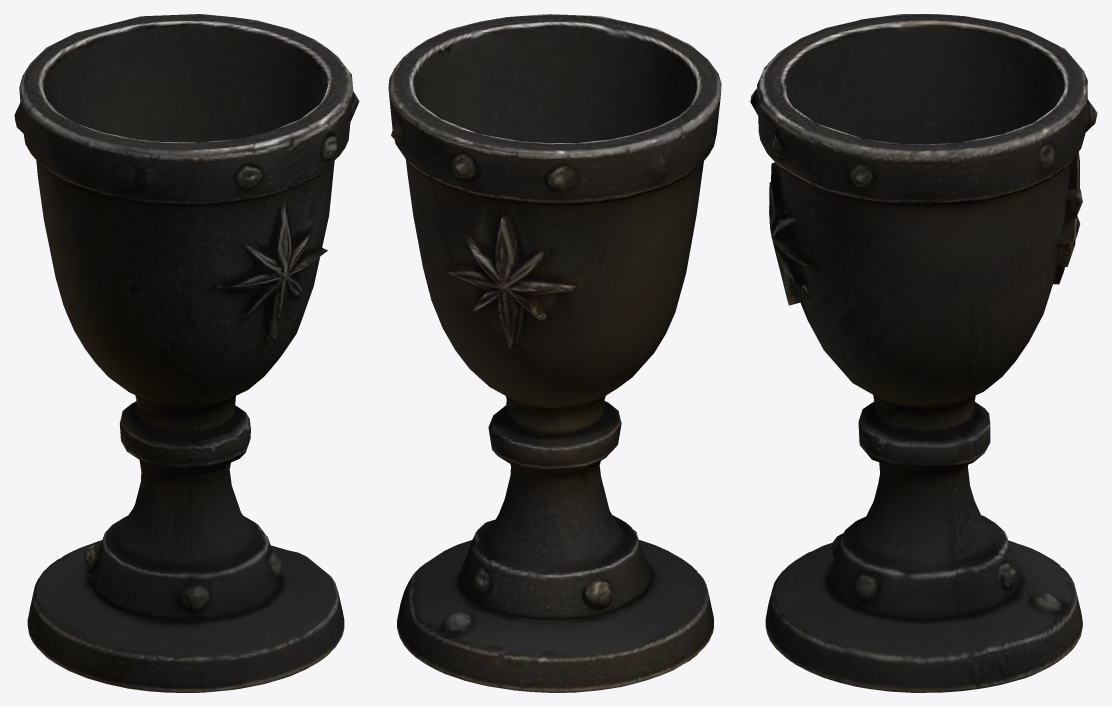
Rendered from cup_chalise_large.fbx.
3 views of the same model, side by side, from view 1: azimuth 30°, elevation 25°; view 2: azimuth 150°, elevation 25°; view 3: azimuth 270°, elevation 25° (orthographic).
Parts seen in each view (by area): view 1: cup_chalise_large; view 2: cup_chalise_large; view 3: cup_chalise_large.
Boxes of the visible parts, x1=… form: cup_chalise_large: x1=14, y1=14, x2=359, y2=692; cup_chalise_large: x1=388, y1=14, x2=721, y2=692; cup_chalise_large: x1=750, y1=14, x2=1097, y2=692.
Size of the model in its own units: 25.51 by 45.52 by 26.27.
Materials: 1 (1 with a texture image).
